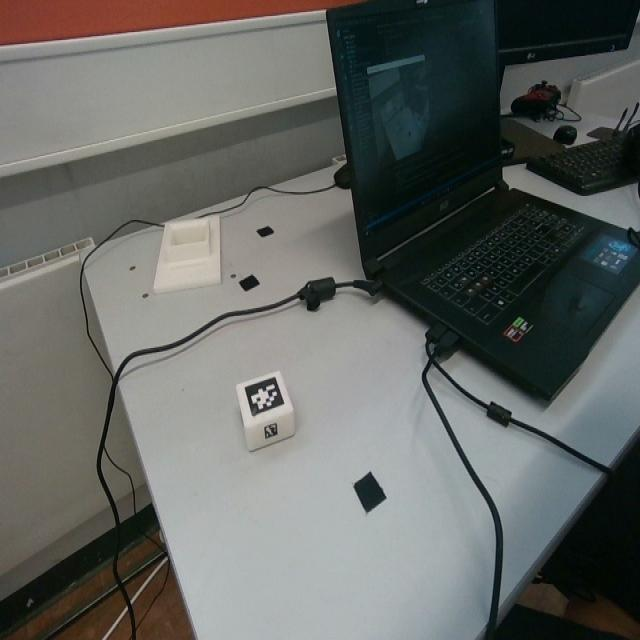Cube: (236, 369, 296, 452)
